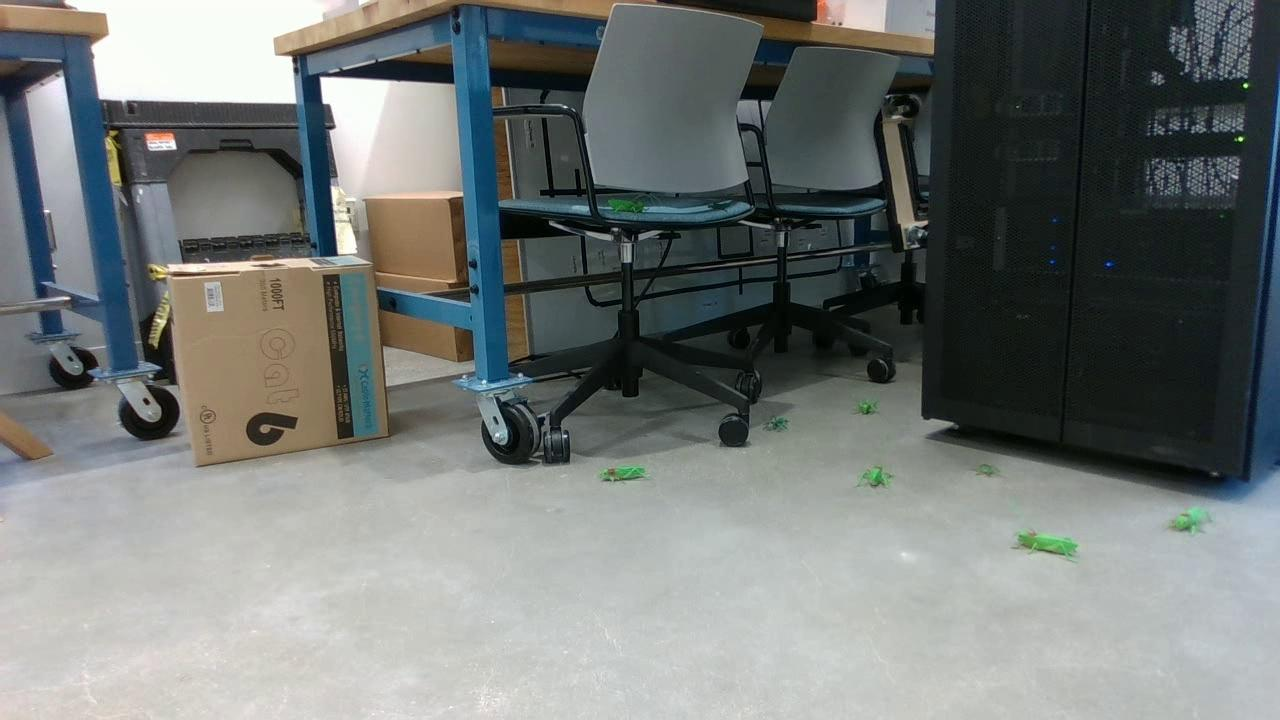grasshopper: (1012, 526, 1078, 561), (1167, 502, 1213, 534), (597, 463, 649, 484), (606, 197, 652, 217), (861, 467, 893, 490), (856, 395, 877, 420)
